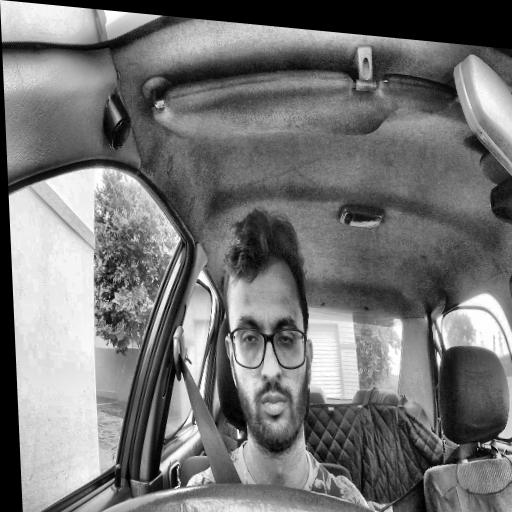drowsy: (218, 205, 319, 459)
